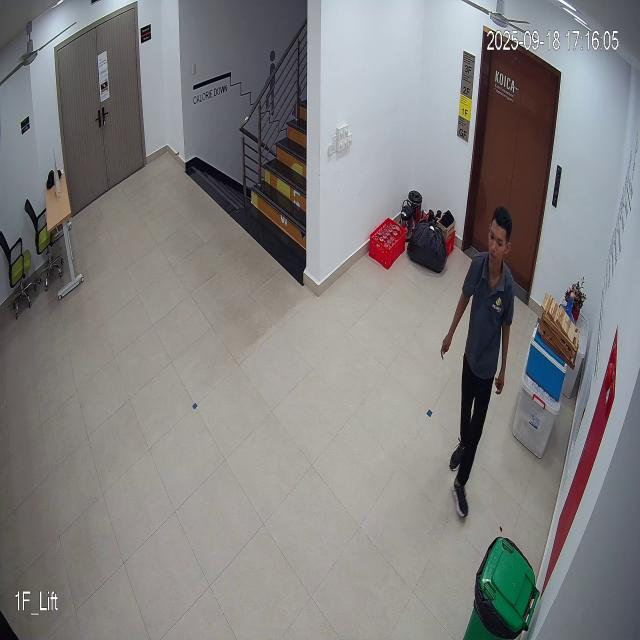face: (485, 207, 514, 270)
